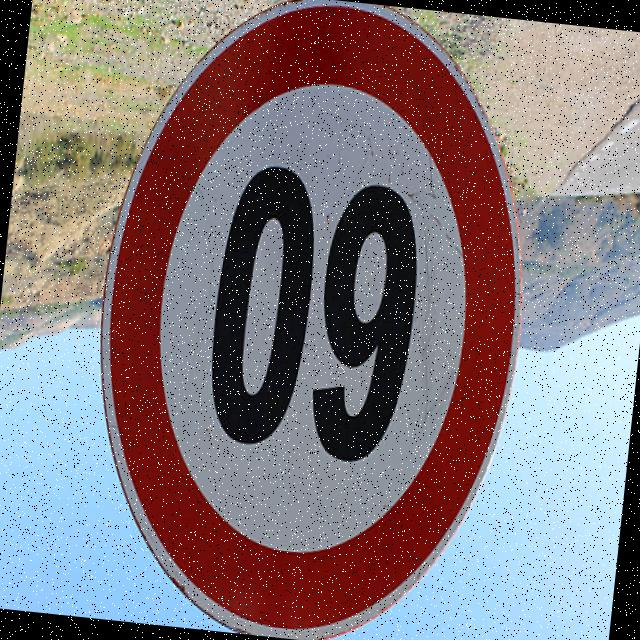speed_limit_60: (65, 0, 550, 640)
